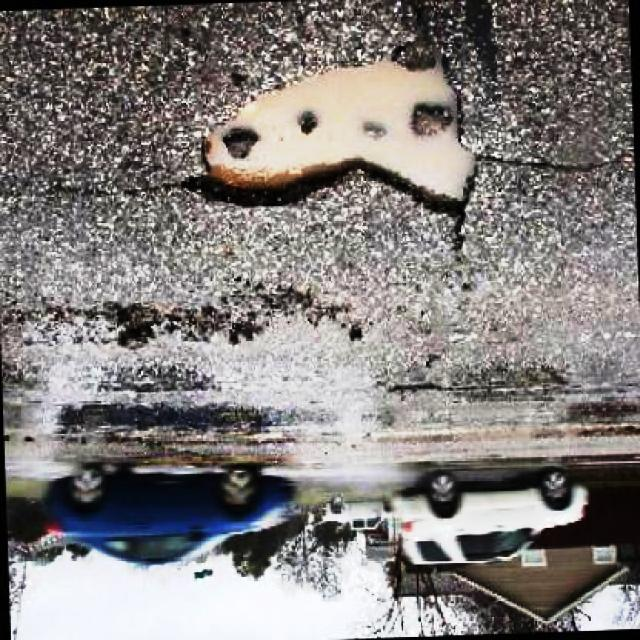pothole: (194, 37, 489, 251)
